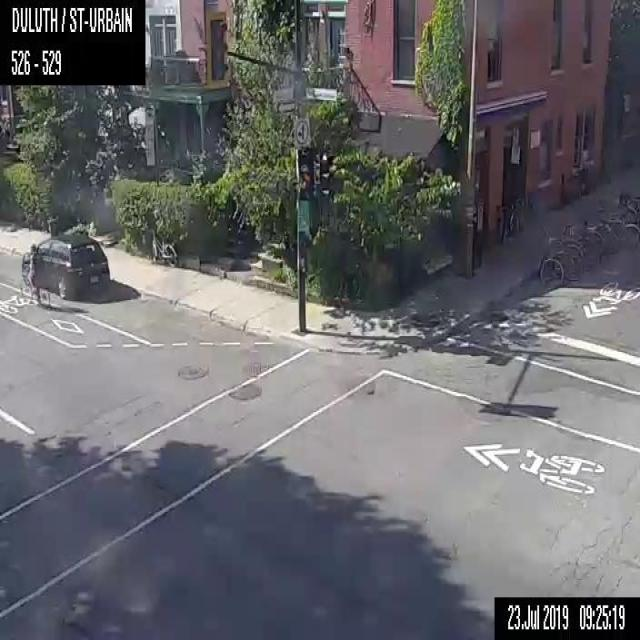cyclist: (17, 242, 50, 306)
vehicle: (22, 232, 109, 298), (150, 233, 176, 267)
